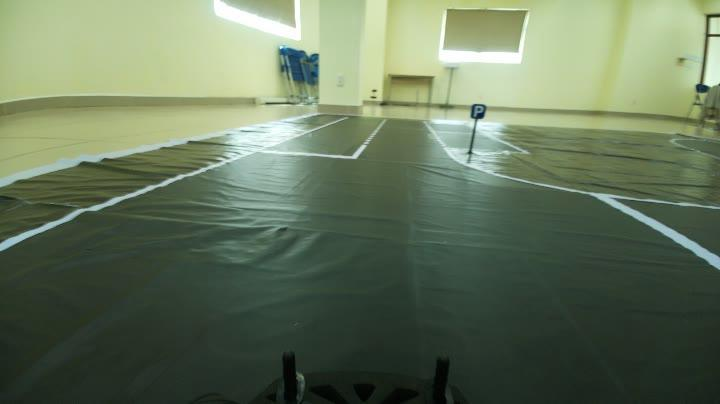parking: (464, 101, 491, 124)
